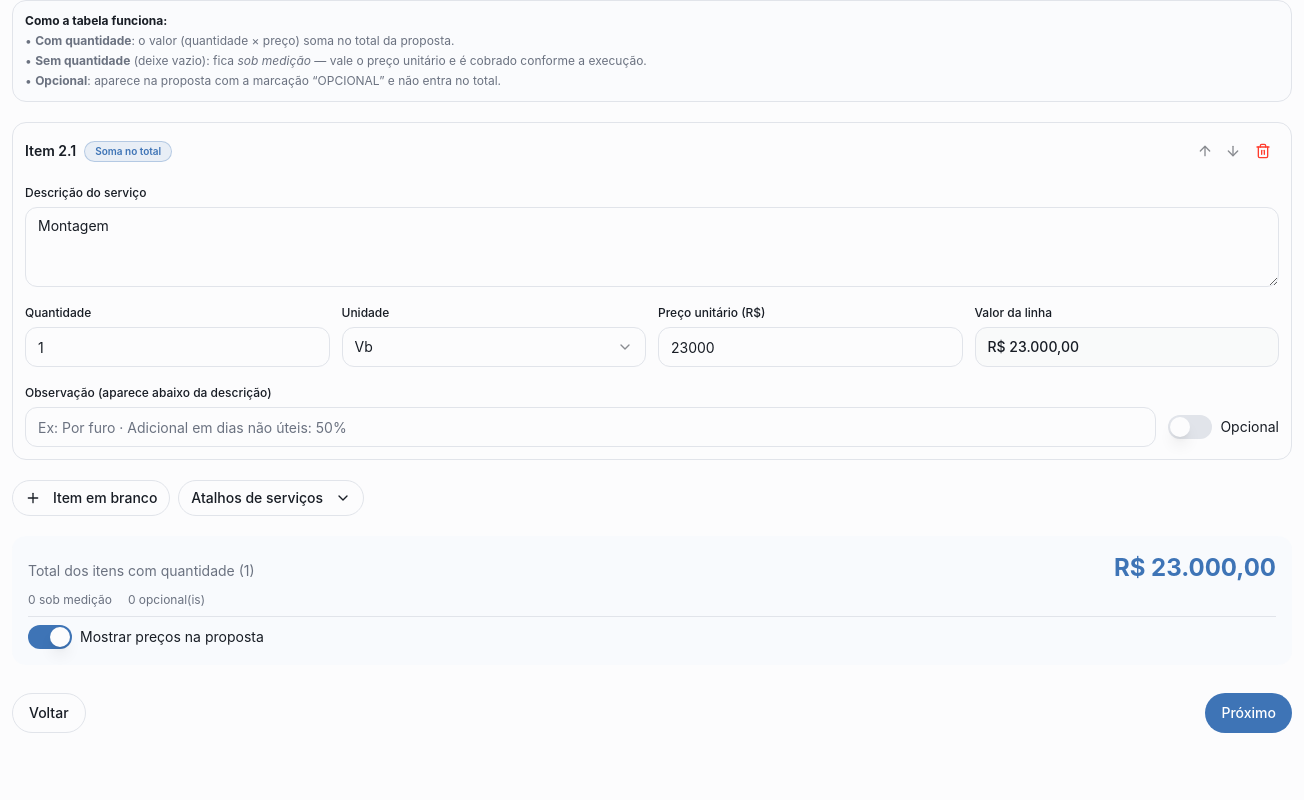
etapa de preços › quantidade × preço soma no total; apagar a quantidade vira 'sob medição' e sai do total
The image size is (1304, 800).
Expected: the text "Soma no total" is shown, [84,140,172,162]
Clear the 1st number field with placeholder "sob medição": coordinates (177, 347) [25,327,330,367]
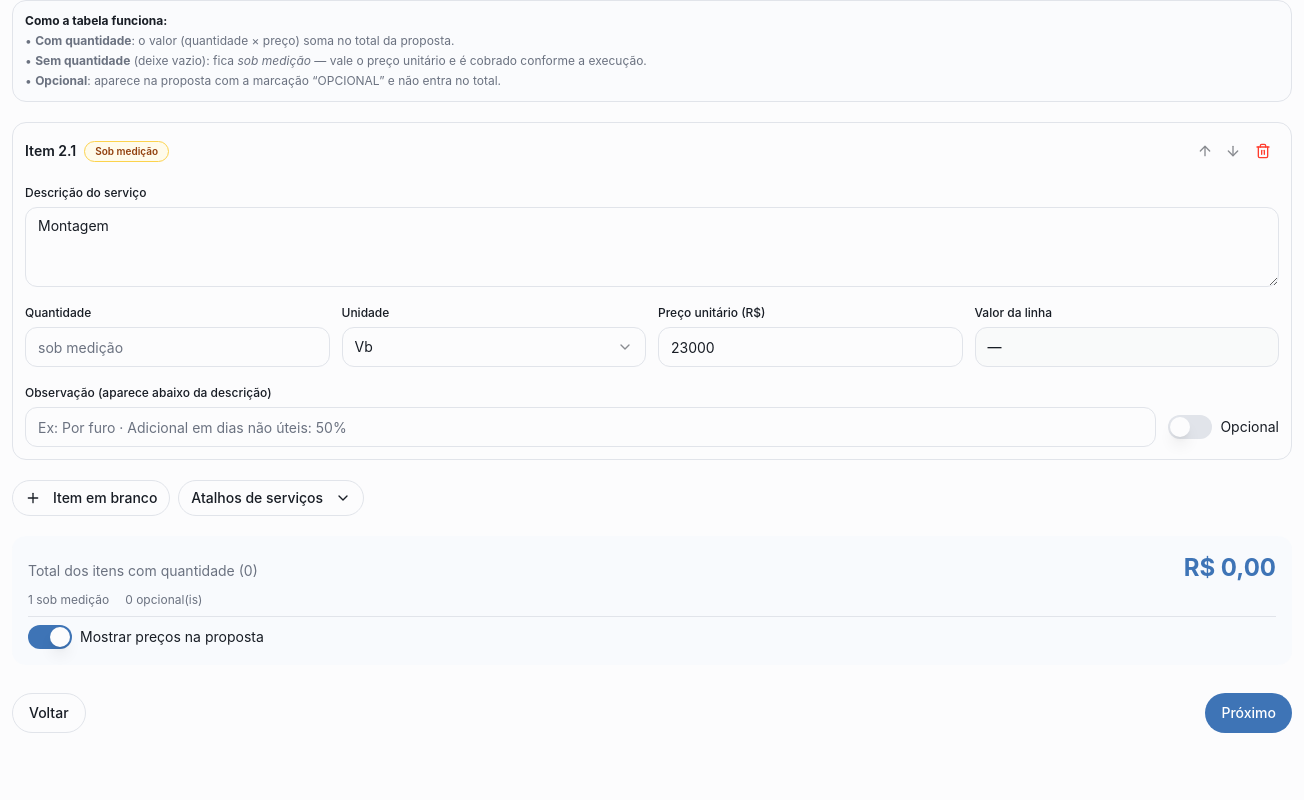
Expected: the text "Sob medição" is shown, [84,140,169,162]
Expected: the text "Total dos itens com quantidade (0)" is shown, [28,561,258,581]
